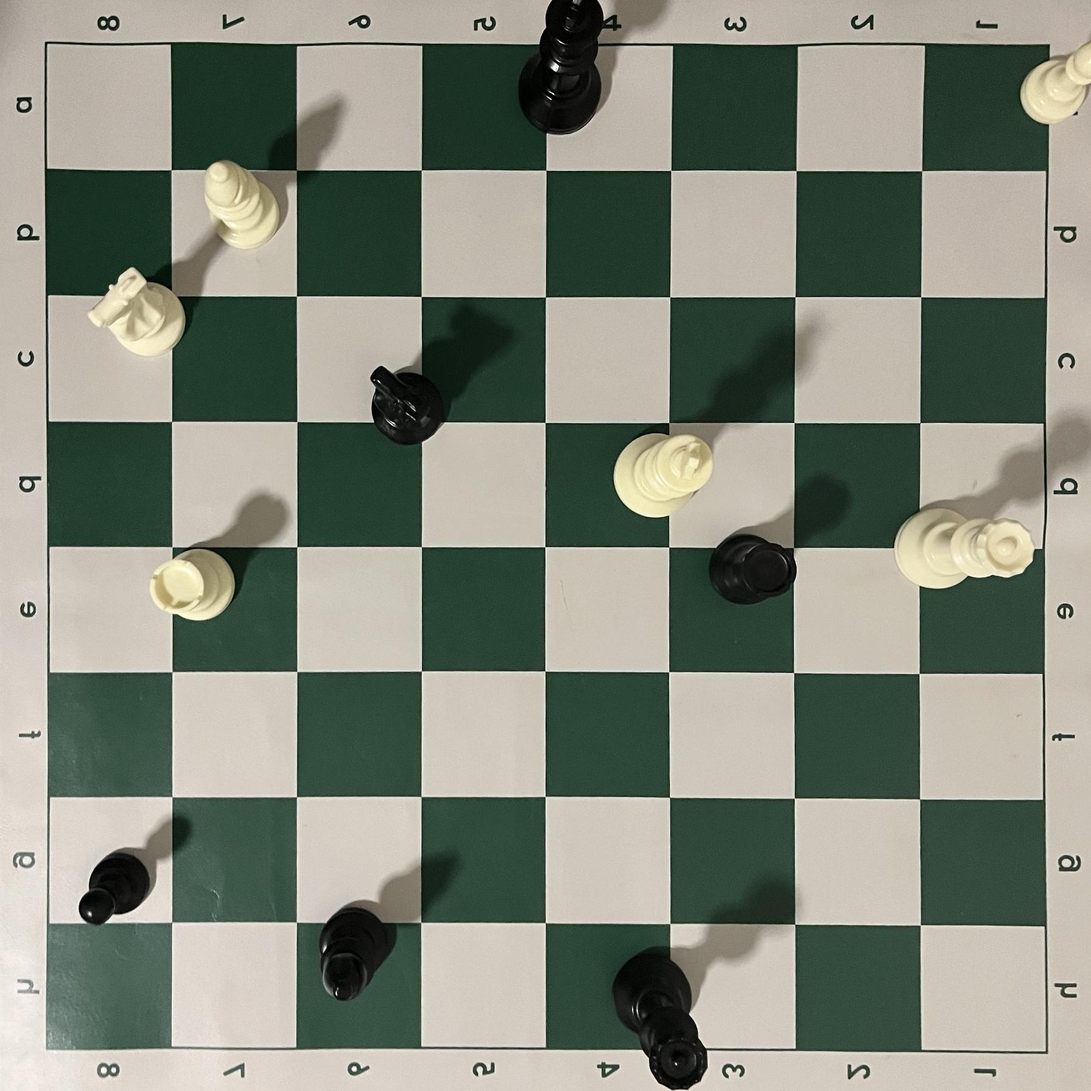black_bishop: (318, 902, 397, 1001)
black_king: (518, 0, 606, 135)
black_knight: (369, 364, 444, 446)
black_pawn: (77, 847, 152, 926)
black_queen: (611, 947, 709, 1090)
black_rook: (707, 534, 797, 605)
white_bishop: (203, 158, 280, 250)
white_king: (612, 432, 714, 519)
white_knight: (87, 266, 186, 357)
white_pawn: (1019, 41, 1090, 125)
white_queen: (892, 505, 1037, 591)
white_rook: (148, 547, 236, 621)
